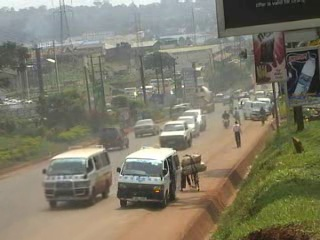Car: (157, 119, 194, 149), (98, 125, 132, 150), (183, 108, 208, 132), (178, 114, 201, 138), (132, 118, 160, 137)
Motorcycle: (221, 116, 230, 128)
